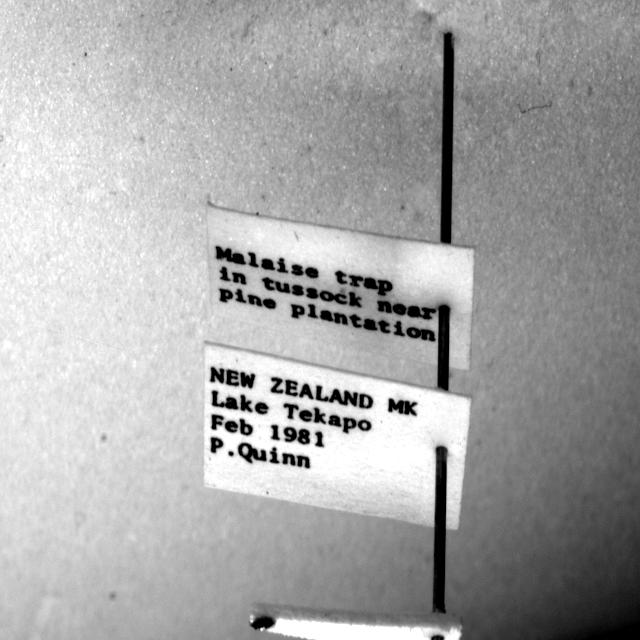typed_label: (204, 343, 471, 529), (206, 202, 475, 369)
